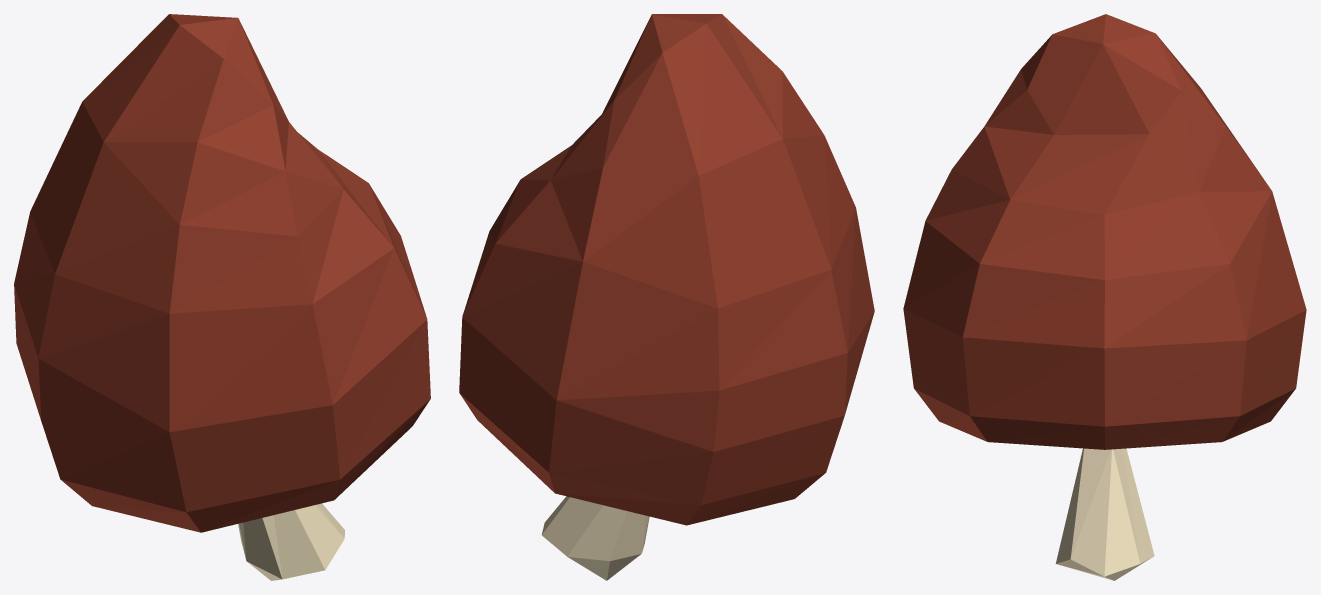
The model's file is mashroom_one.fbx.
3 views of the same model, side by side, from view 1: azimuth 30°, elevation 25°; view 2: azimuth 150°, elevation 25°; view 3: azimuth 270°, elevation 25° (orthographic). The views are drawn at different scales.
Parts seen in each view (by area): view 1: mashroom; view 2: mashroom; view 3: mashroom.
Part boxes in pixels (x1,y1,x2,y2): mashroom: (14,14,430,580); mashroom: (459,14,874,580); mashroom: (903,14,1306,580).
Bounding box in the file's own units: 165 × 250 × 174.
